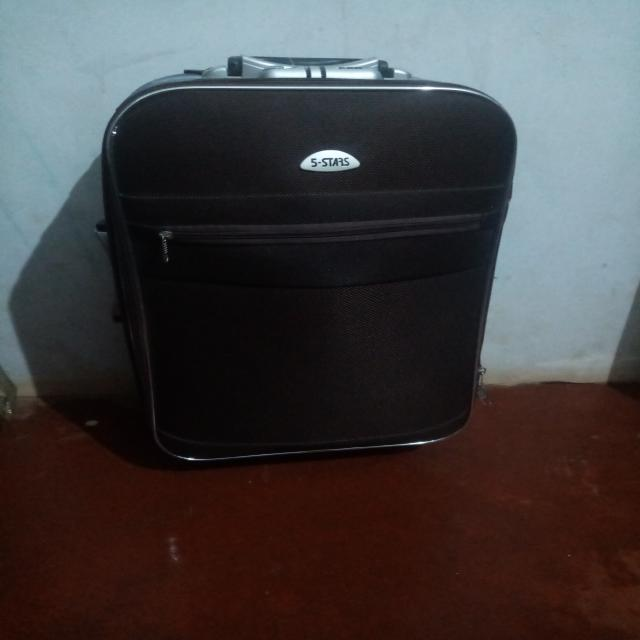suitcaserotation: (87, 51, 520, 474)
